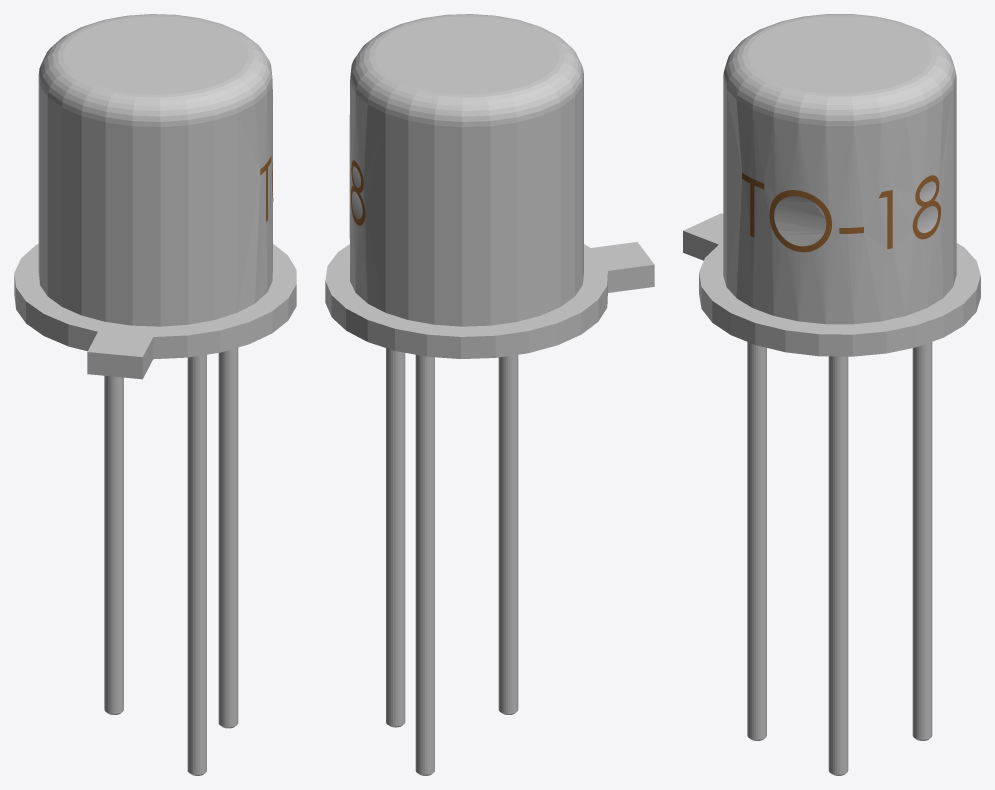
Rendered from transistor-to-18.obj.
3 views of the same model, side by side, from view 1: azimuth 30°, elevation 25°; view 2: azimuth 150°, elevation 25°; view 3: azimuth 270°, elevation 25° (orthographic).
Visible parts, largest first — view 1: transistor-to-18; view 2: transistor-to-18; view 3: transistor-to-18.
Boxes of the visible parts, x1=… form: transistor-to-18: x1=14, y1=14, x2=296, y2=775; transistor-to-18: x1=325, y1=14, x2=654, y2=775; transistor-to-18: x1=683, y1=14, x2=980, y2=775.
Size of the model in its own units: 0.0113 by 0.0296 by 0.0117.
